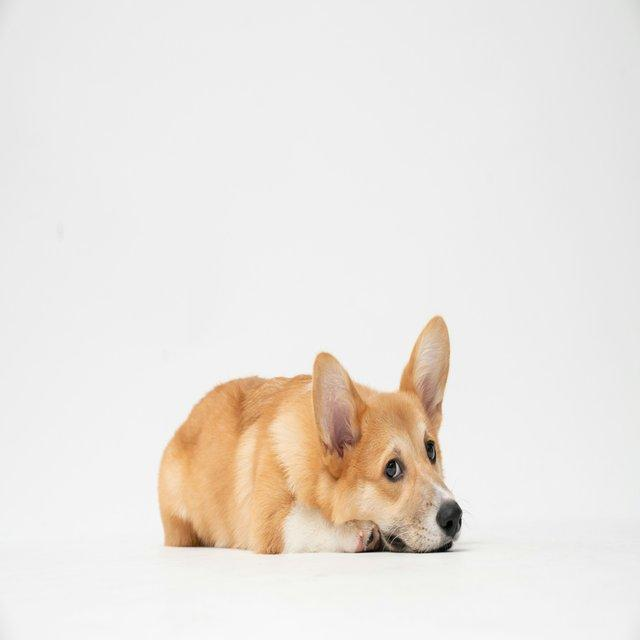corgi: (156, 313, 463, 554)
